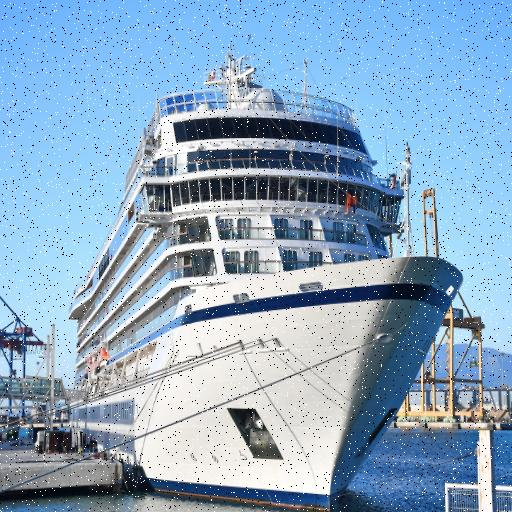cruises: (67, 50, 468, 512)
